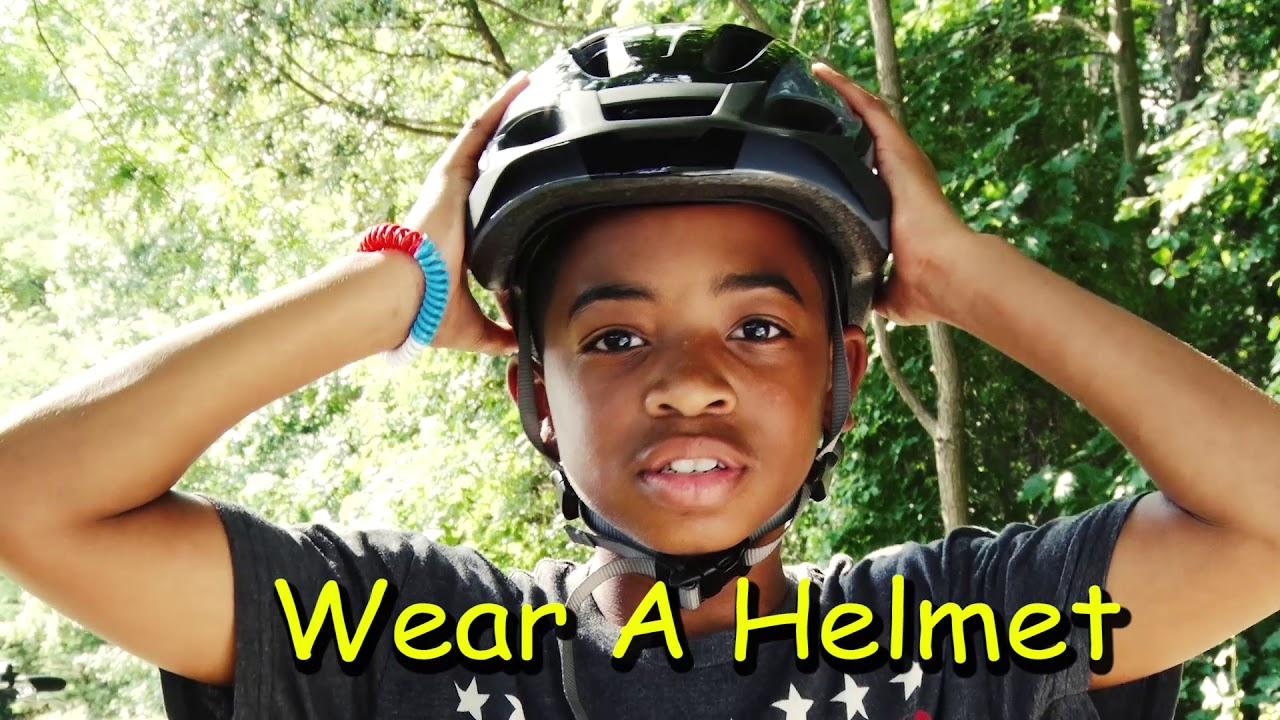helmet: (462, 23, 893, 554)
